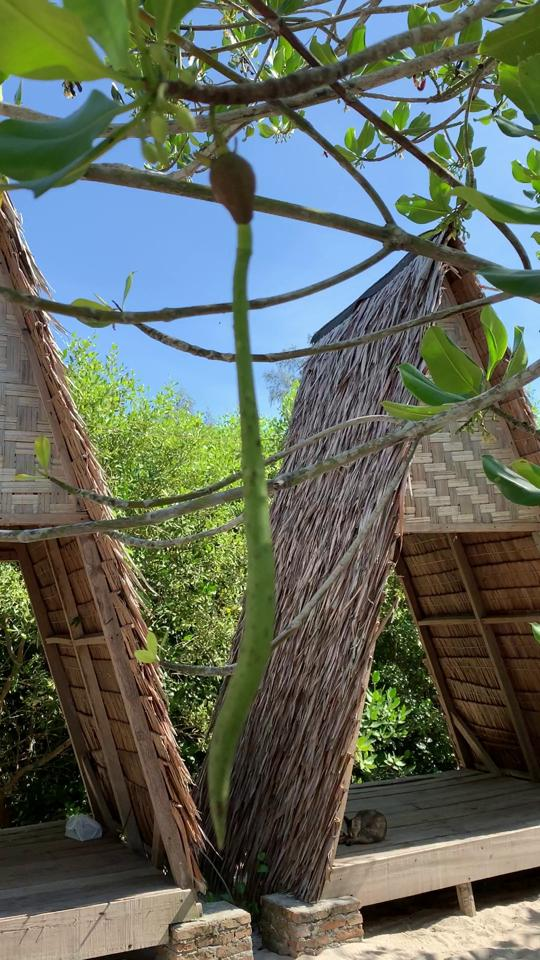setengah matang: (182, 141, 285, 862)
